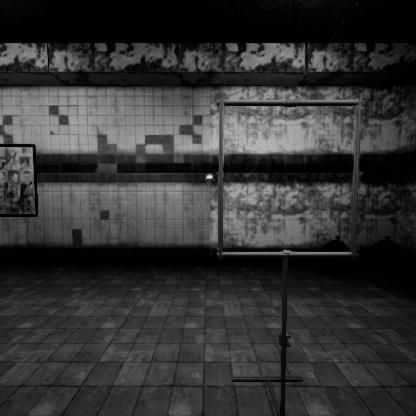gate: (218, 157, 374, 316)
